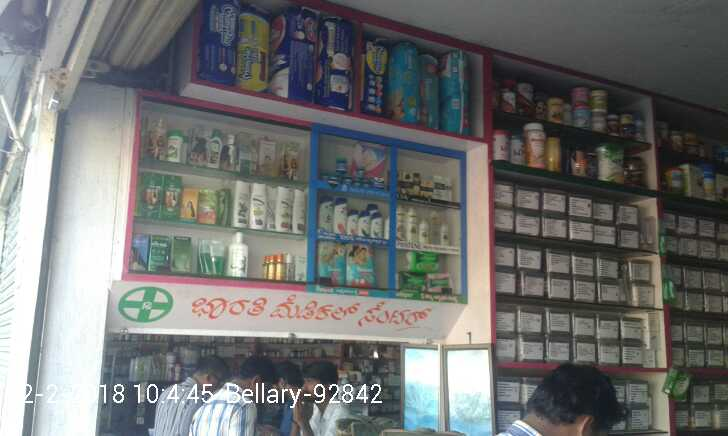beauty: (318, 195, 333, 235), (334, 196, 346, 236), (407, 204, 417, 244), (432, 175, 447, 199), (346, 209, 360, 234), (417, 217, 429, 245), (370, 214, 384, 238), (401, 169, 411, 200), (360, 208, 370, 238), (417, 182, 437, 197), (441, 221, 451, 247), (412, 174, 419, 198)
pharmacy: (440, 50, 472, 131), (391, 40, 420, 123), (422, 49, 442, 132), (345, 243, 379, 291), (320, 239, 345, 288), (397, 271, 428, 293), (405, 252, 440, 271), (426, 274, 455, 293), (336, 157, 347, 173)
